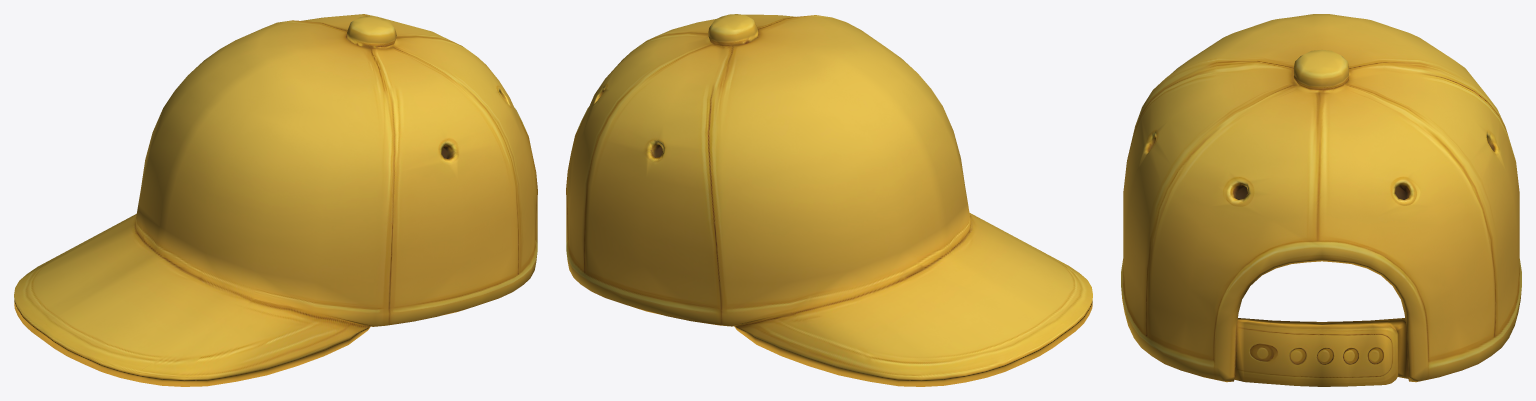
File: cap-r6.glb
3 views of the same model, side by side, from view 1: azimuth 30°, elevation 25°; view 2: azimuth 150°, elevation 25°; view 3: azimuth 270°, elevation 25° (orthographic). The views are drawn at different scales.
Parts seen in each view (by area): view 1: tripo_node_d1fcd6db-8dcc-444f-9365-26023572d754; view 2: tripo_node_d1fcd6db-8dcc-444f-9365-26023572d754; view 3: tripo_node_d1fcd6db-8dcc-444f-9365-26023572d754.
Boxes of the visible parts, bbox=[...] form: tripo_node_d1fcd6db-8dcc-444f-9365-26023572d754: bbox=[14, 14, 537, 386]; tripo_node_d1fcd6db-8dcc-444f-9365-26023572d754: bbox=[566, 14, 1092, 386]; tripo_node_d1fcd6db-8dcc-444f-9365-26023572d754: bbox=[1121, 14, 1521, 386].
Bounding box in the file's own units: 0.998 × 0.5176 × 0.666.
Materials: 1 (1 with a texture image).
